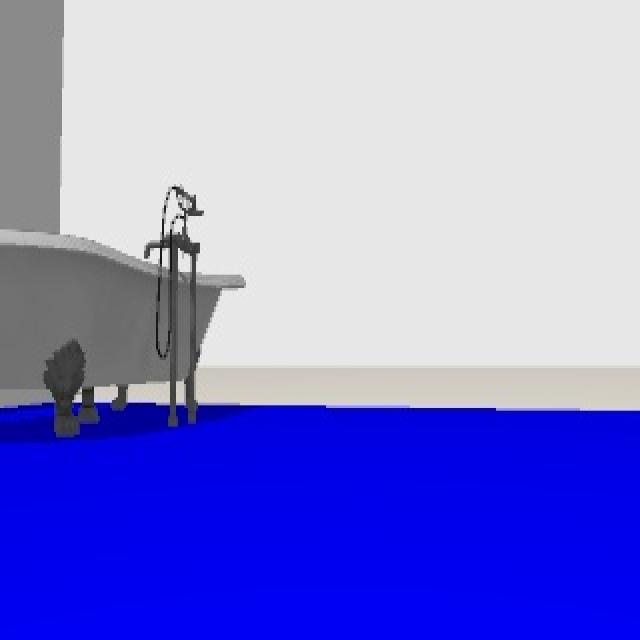bathtub: (2, 184, 247, 442)
